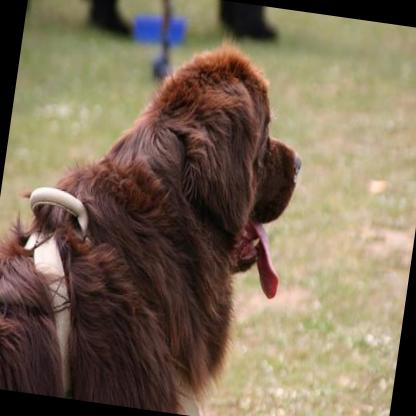Newfoundland: (0, 5, 319, 416)
